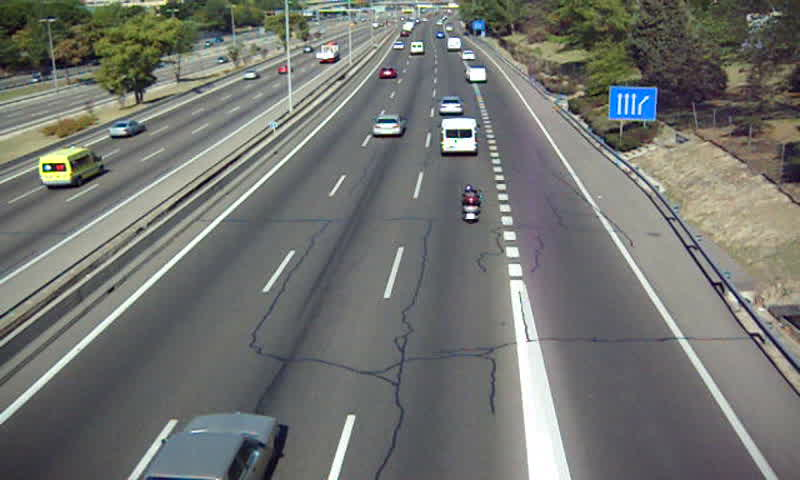car: (142, 414, 281, 480), (373, 114, 407, 136), (437, 96, 464, 115), (378, 68, 394, 81)
motorcycle: (458, 186, 484, 226)
van: (439, 118, 478, 153), (464, 67, 488, 84)
